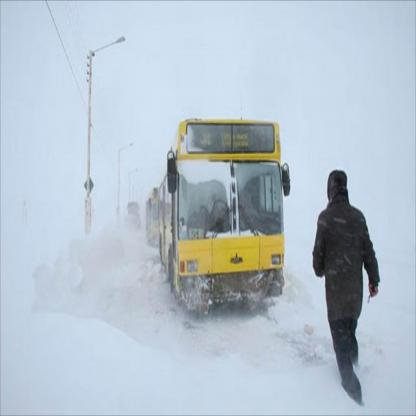Bus: (158, 91, 290, 315)
